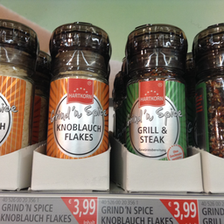spices: (45, 22, 112, 159), (125, 23, 191, 162), (1, 18, 38, 155), (193, 23, 224, 157)
